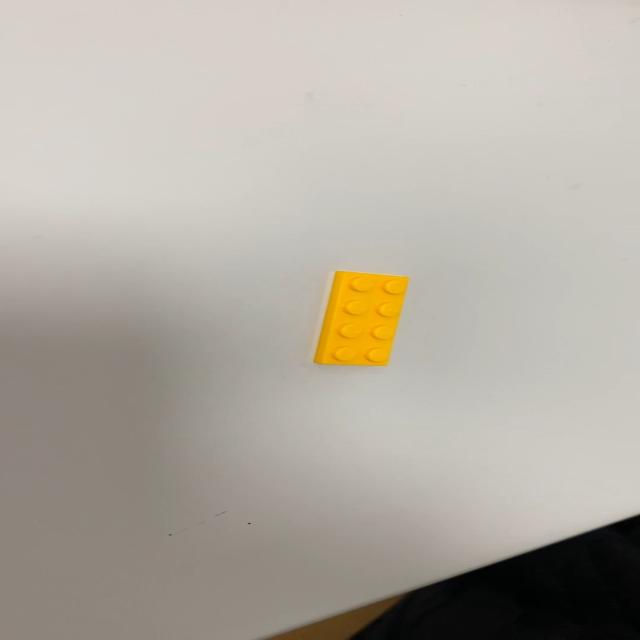C4x2x0: (311, 269, 410, 367)
